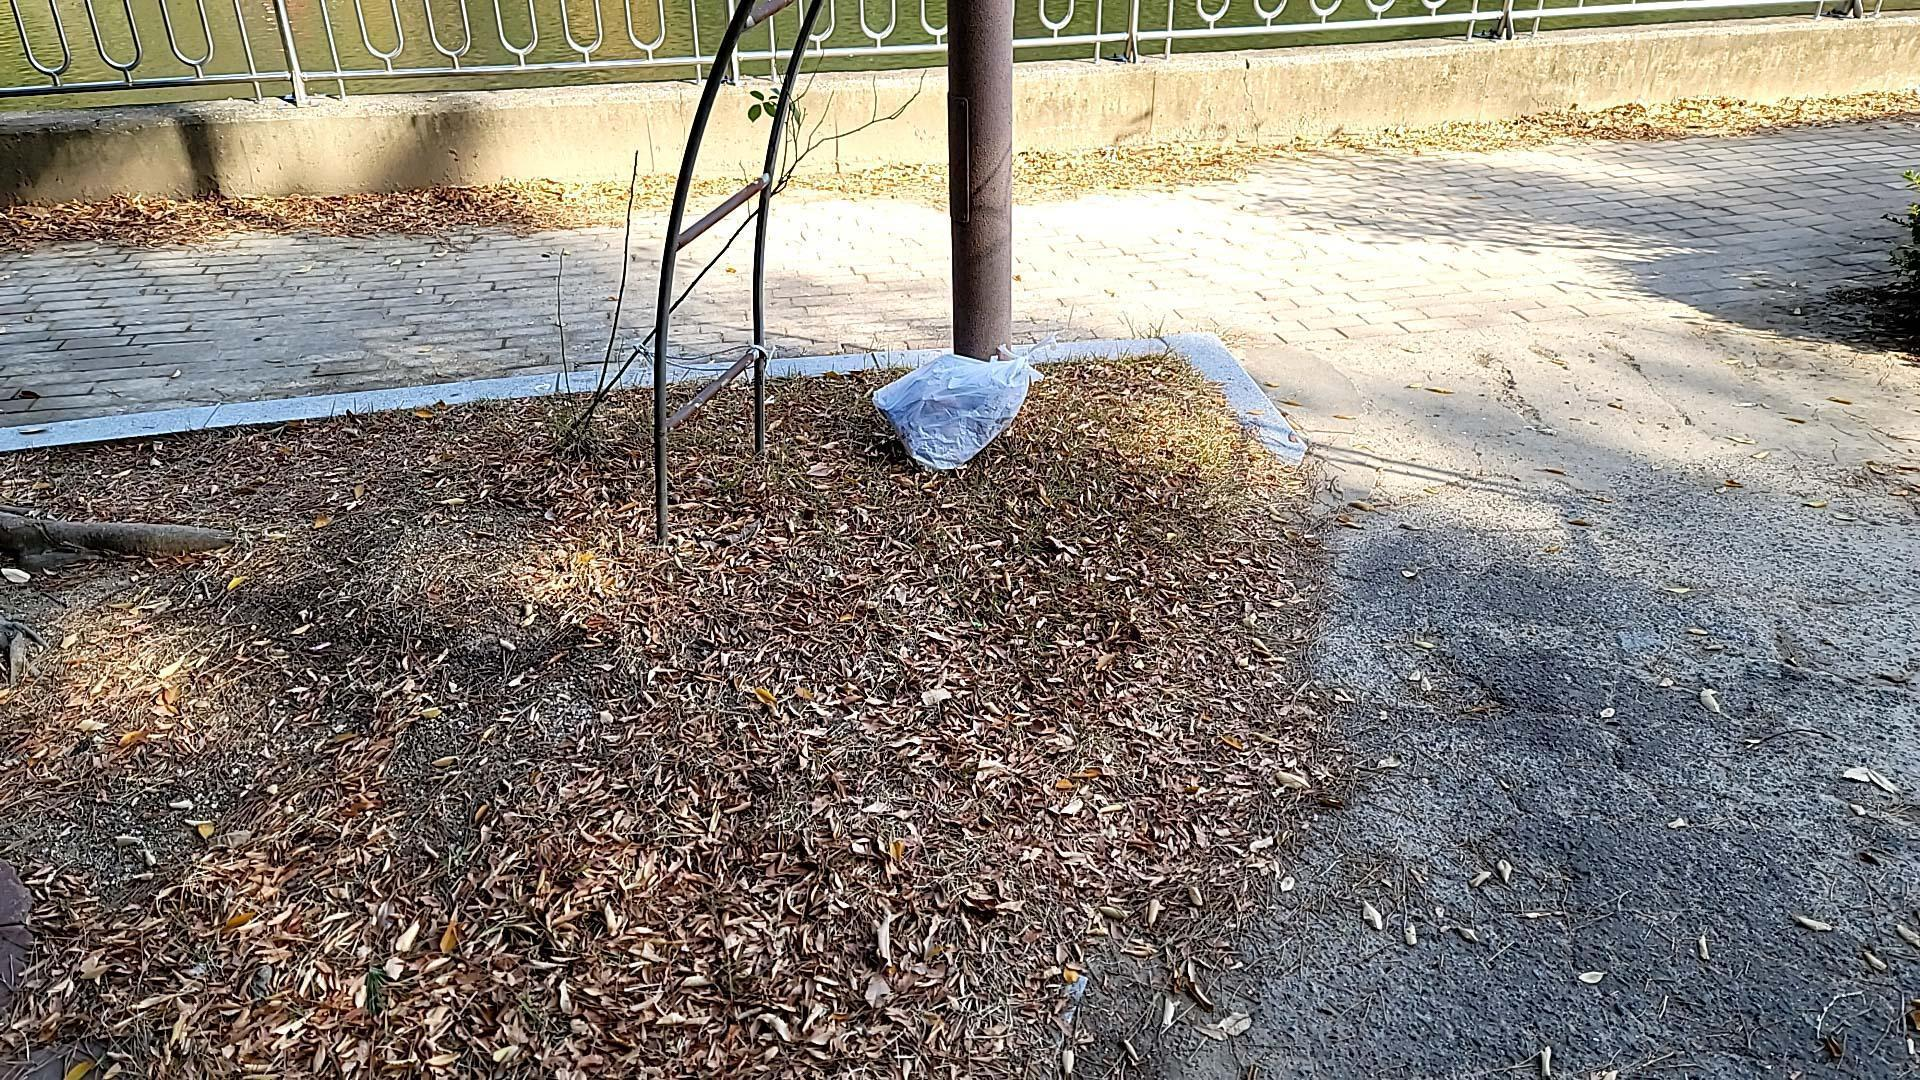white_bag: (860, 340, 1050, 483)
